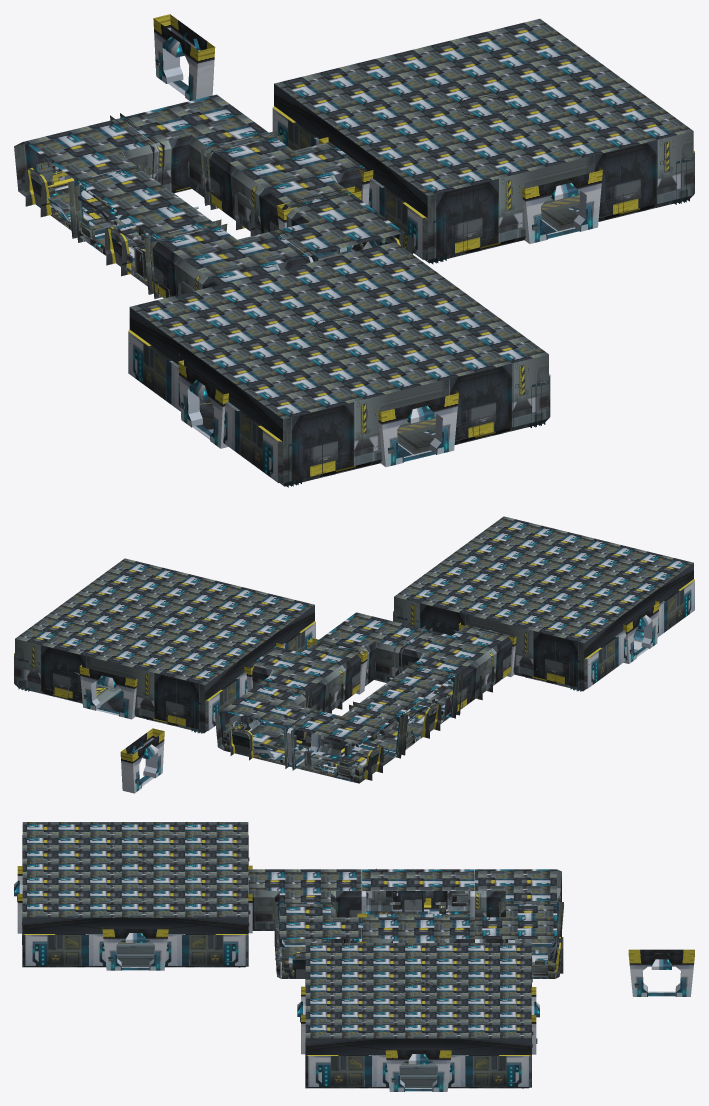
The model's file is Combined_Mesh_root_scene__13_e7023e4f__ZombiesII_laboratory_08_d_36b73b52_c1f257.obj.
3 renders of one model, top to bottom at view 1: azimuth 30°, elevation 25°; view 2: azimuth 150°, elevation 25°; view 3: azimuth 270°, elevation 25°, orthographic. The views are drawn at different scales.
Size of the model in its own units: 93.74 by 10.34 by 121.
592 materials, 592 textured.
